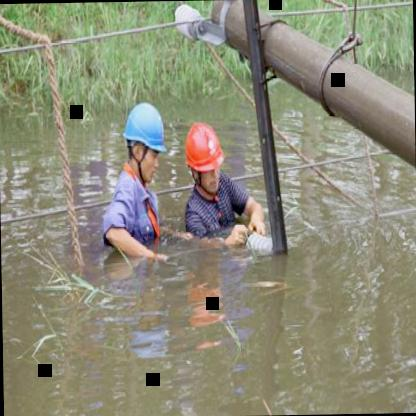helmet: (120, 98, 168, 181), (180, 119, 228, 196)
